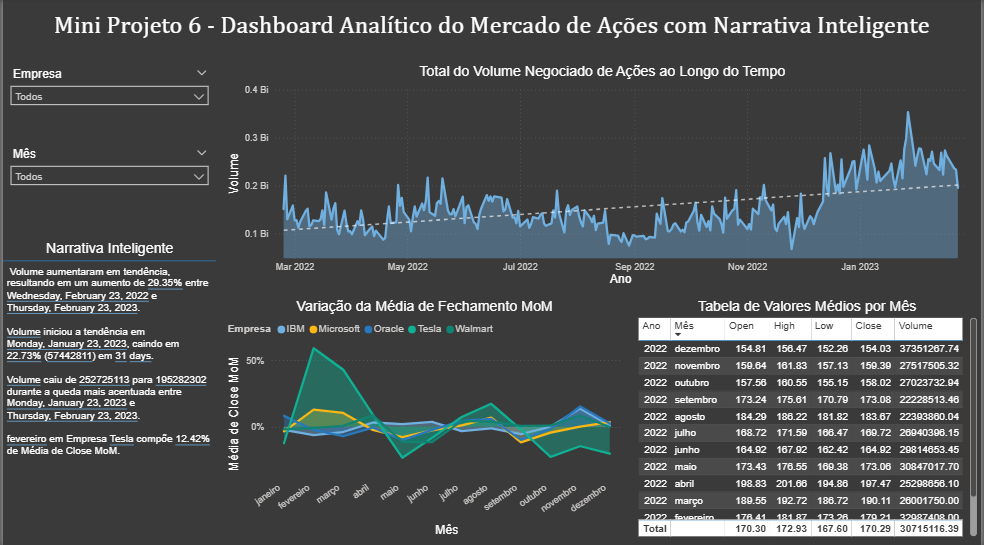

The dashboard page shown, as its layout file describes it:
{"tool":"powerbi","page":{"name":"Página 1","canvas":[1280,720],"ordinal":0},"visuals":[{"type":"slicer","fields":{"Values":["StockMarket.Empresa"]},"box":[0,85,279.4,105.1],"z":0},{"type":"areaChart","title":"Total do Volume Negociado de Ações ao Longo do Tempo","fields":{"Category":["StockMarket.Data.Variation.Hierarquia de datas.Ano","StockMarket.Data.Variation.Hierarquia de datas.Trimestre","StockMarket.Data.Variation.Hierarquia de datas.Mês","StockMarket.Data.Variation.Hierarquia de datas.Dia"],"Y":["Sum(StockMarket.Volume)"]},"box":[289.4,85,990.7,296.6],"z":1000},{"type":"areaChart","title":"Variação da Média de Fechamento MoM","fields":{"Category":["StockMarket.Data.Variation.Hierarquia de datas.Mês"],"Series":["StockMarket.Empresa"],"Y":["StockMarket.Média de Close MoM%"]},"box":[289.4,393.1,525.6,316.8],"z":2000},{"type":"tableEx","title":"Tabela de Valores Médios por Mês","fields":{"Values":["StockMarket.Data.Variation.Hierarquia de datas.Ano","StockMarket.Data.Variation.Hierarquia de datas.Mês","Avg(StockMarket.Open)","Avg(StockMarket.High)","Avg(StockMarket.Low)","Avg(StockMarket.Close)","Avg(StockMarket.Volume)"]},"box":[826.6,393.1,453.6,316.8],"z":3000},{"type":"textbox","title":"Narrativa Inteligente","box":[0,311,279.4,398.9],"z":4000},{"type":"slicer","fields":{"Values":["StockMarket.Data.Variation.Hierarquia de datas.Mês"]},"box":[0,190.1,279.4,105.1],"z":5000},{"type":"textbox","box":[51.8,10.1,1175,63.4],"z":6000}]}

Visuals, with their boxes in screenshot pixels (x1, y1, x2, y2), scaled from the page's 1280x720 canvas onto the 984x545 screenshot:
slicer - StockMarket.Empresa: bbox=(0, 64, 215, 144)
"Total do Volume Negociado de Ações ao Longo do Tempo" areaChart: bbox=(222, 64, 983, 289)
"Variação da Média de Fechamento MoM" areaChart: bbox=(222, 298, 627, 537)
"Tabela de Valores Médios por Mês" tableEx: bbox=(635, 298, 983, 537)
"Narrativa Inteligente" textbox: bbox=(0, 235, 215, 537)
slicer - StockMarket.Data.Variation.Hierarquia de datas.Mês: bbox=(0, 144, 215, 223)
textbox: bbox=(40, 8, 943, 56)
